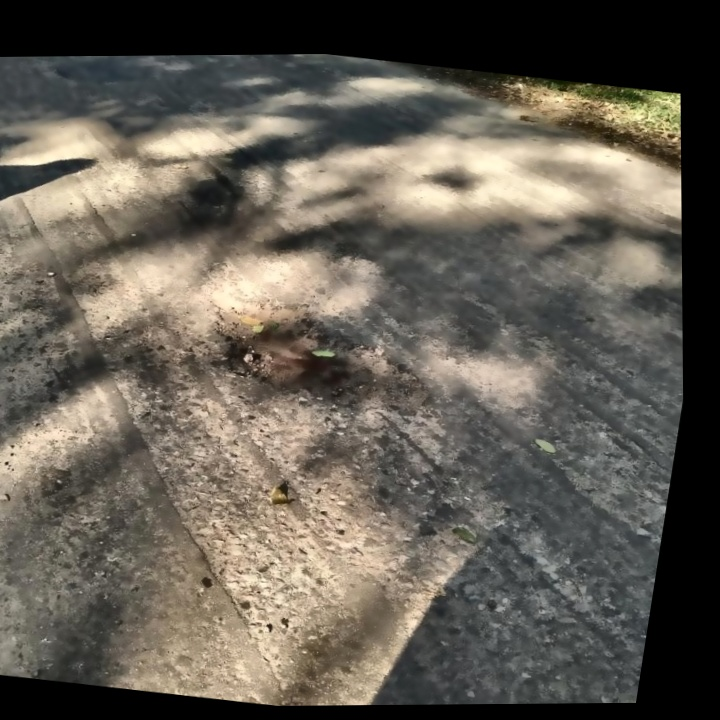pothole: (199, 290, 452, 427)
